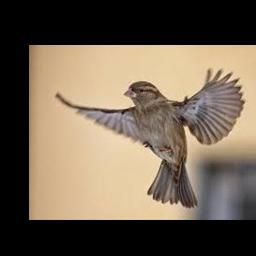Sparrow: (56, 68, 245, 208)
